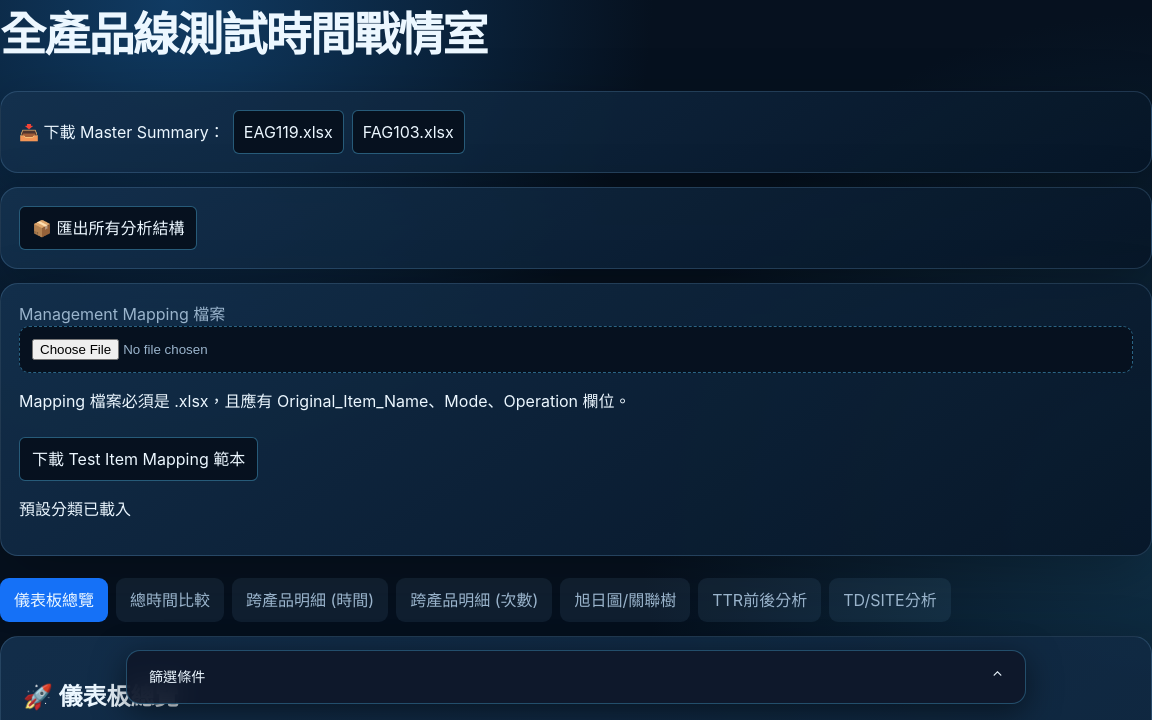
Test case: DashboardPage › shows the Sunburst export button only after switching to the Sunburst tab
Expected: the button "下載 Sunburst 資料結構" is not shown
Click the tab "旭日圖/關聯樹" at (625,600), box top-left (560, 578), bottom-right (690, 622)
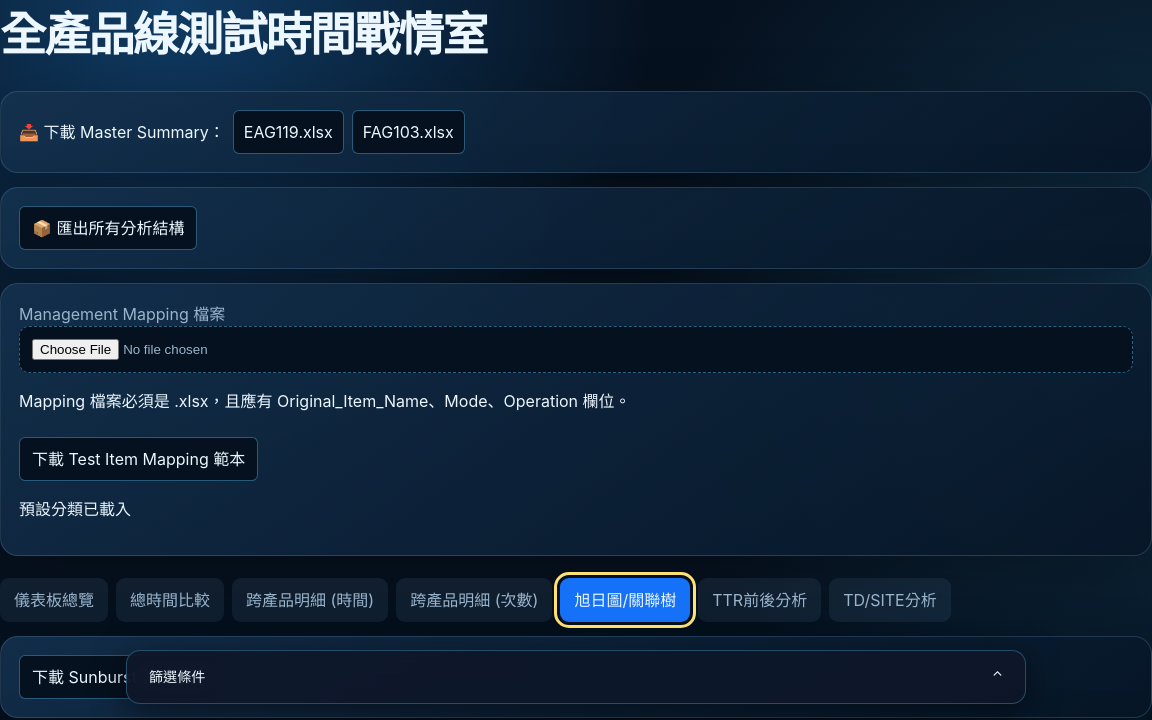
Expected: the button "下載 Sunburst 資料結構" is shown, top-left (19, 655), bottom-right (218, 699)
